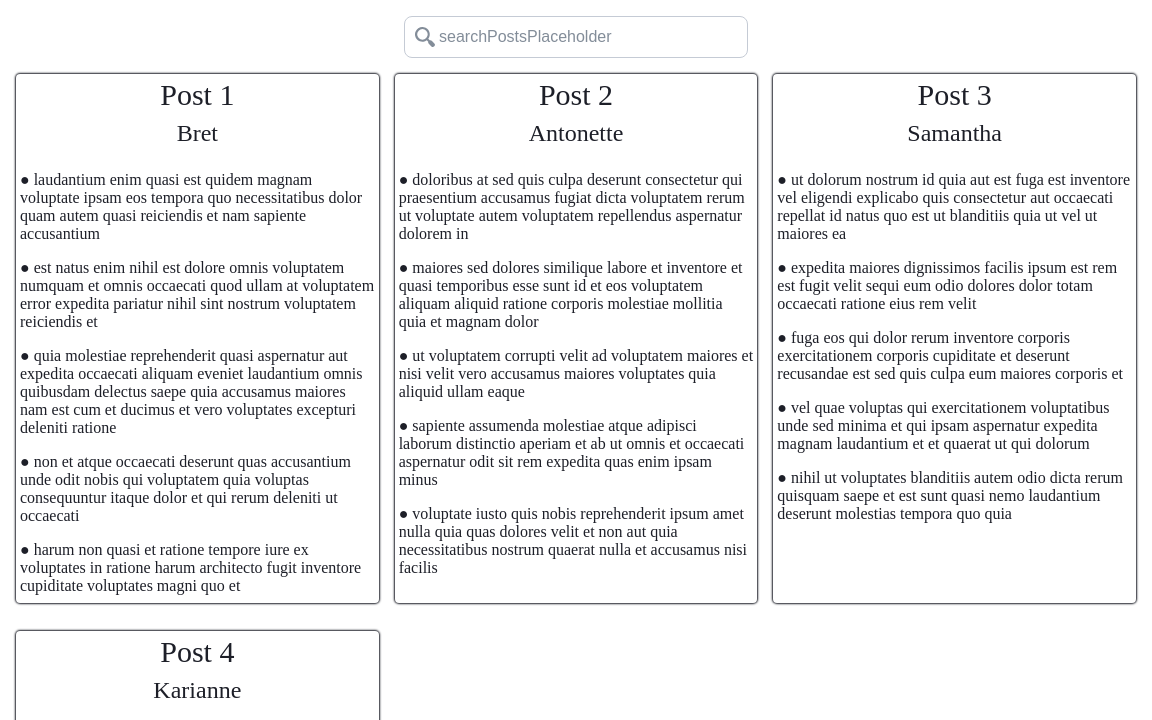
Test: Posts › test posts no results filter action
Type "No existing username" into the field at (576, 37), box [404,16,748,58]
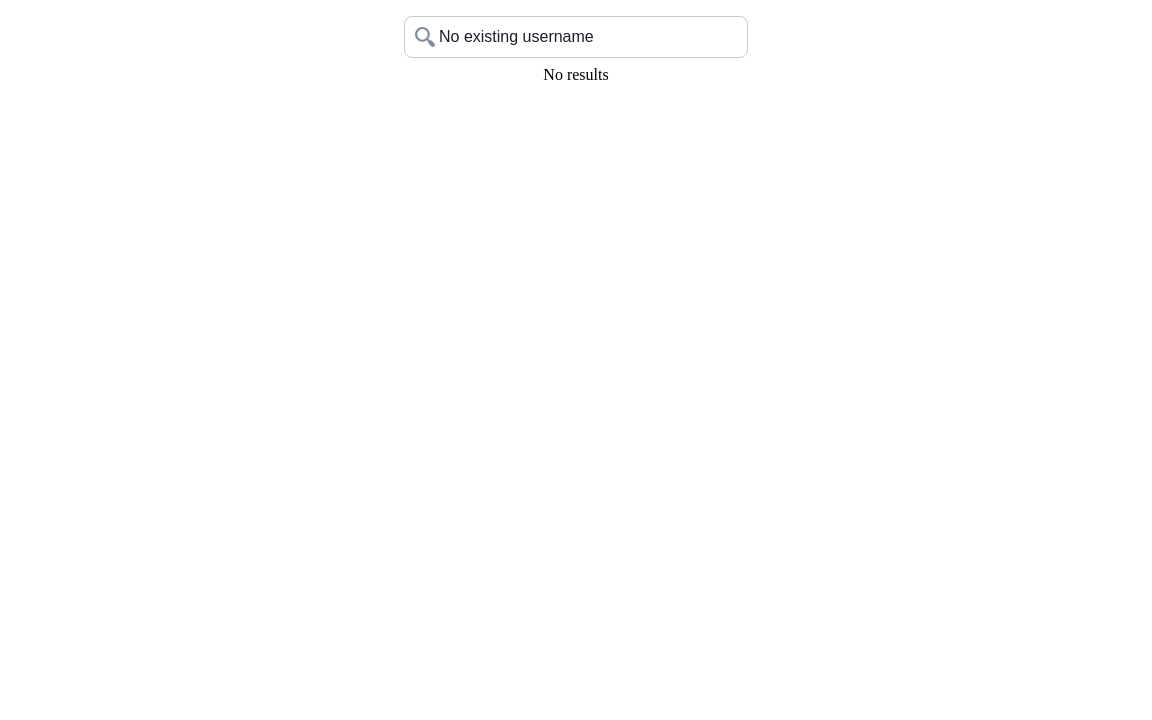
Expected: the text "No results" is shown, [543,66,609,83]
